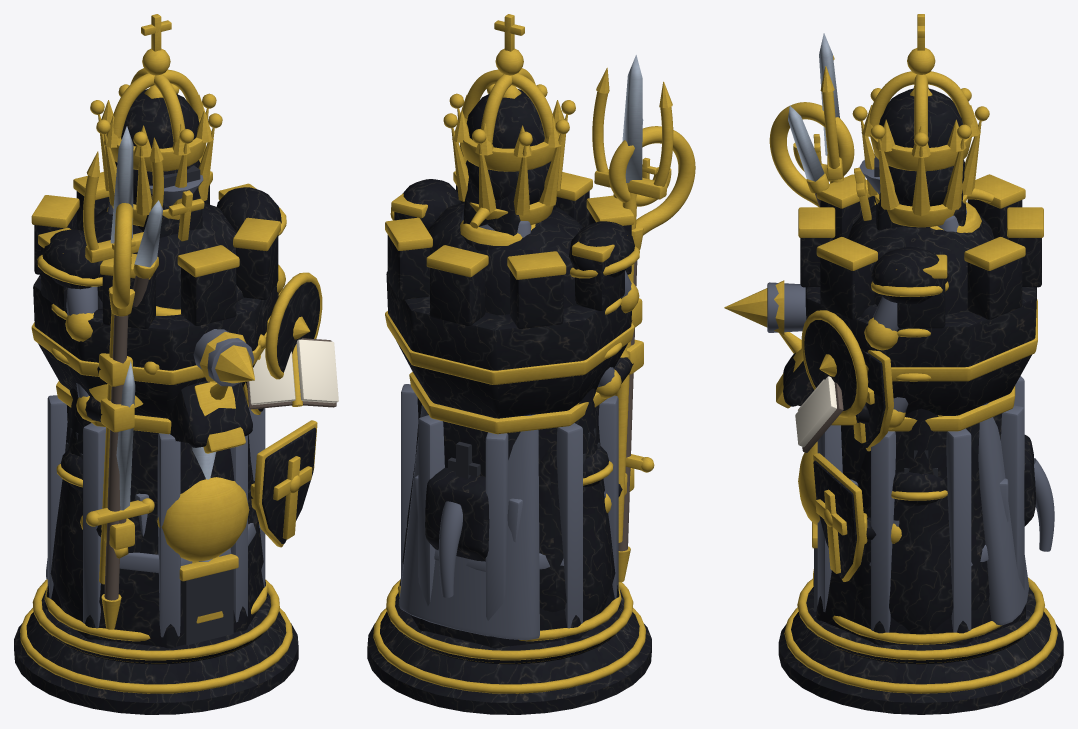
File: wizard_black.glb
3 renders of one model, left to right at view 1: azimuth 30°, elevation 25°; view 2: azimuth 150°, elevation 25°; view 3: azimuth 270°, elevation 25°, orthographic.
Visible parts, largest first — view 1: Mesh_WeaponArm_r, Mesh_Body_r, Plinth_k, Mesh_Body_n, Mesh_Body_k, Mesh_Head_k, Mesh_WeaponArm_b, Mesh_WeaponArm_q, Mesh_ShieldArm_p, Mesh_WeaponArm_k, Mesh_ShieldArm_b, Mesh_Head_q (+6 smaller); view 2: Mesh_WeaponArm_r, Mesh_Body_k, Mesh_Body_r, Plinth_k, Mesh_Head_k, Mesh_WeaponArm_q, Mesh_WeaponArm_b, Mesh_Body_n, Mesh_Head_q, Mesh_WeaponArm_k, Mesh_ShieldArm_k, Mesh_WeaponArm_p (+3 smaller); view 3: Mesh_WeaponArm_r, Mesh_Body_k, Plinth_k, Mesh_Body_r, Mesh_Head_k, Mesh_ShieldArm_p, Mesh_Head_q, Mesh_Body_n, Mesh_ShieldArm_q, Mesh_ShieldArm_k, Mesh_ShieldArm_b, Mesh_WeaponArm_b (+6 smaller).
Boxes of the visible parts, box(x1,y1,x2,y2) form: Mesh_WeaponArm_r: box(31, 171, 280, 418); Mesh_Body_r: box(45, 381, 267, 648); Plinth_k: box(14, 579, 298, 714); Mesh_Body_n: box(135, 381, 252, 561); Mesh_Body_k: box(46, 203, 263, 615); Mesh_Head_k: box(101, 14, 213, 207); Mesh_WeaponArm_b: box(51, 203, 135, 629); Mesh_WeaponArm_q: box(51, 126, 163, 584); Mesh_ShieldArm_p: box(250, 420, 317, 547); Mesh_WeaponArm_k: box(37, 229, 265, 561); Mesh_ShieldArm_b: box(247, 338, 338, 409); Mesh_Head_q: box(90, 83, 222, 226); Mesh_WeaponArm_r: box(385, 171, 634, 418); Mesh_Body_k: box(399, 202, 615, 640); Mesh_Body_r: box(398, 372, 621, 648); Plinth_k: box(367, 579, 651, 714); Mesh_Head_k: box(452, 14, 564, 204); Mesh_WeaponArm_q: box(574, 55, 673, 542); Mesh_WeaponArm_b: box(596, 126, 695, 582); Mesh_Body_n: box(414, 467, 522, 597); Mesh_Head_q: box(443, 84, 575, 237); Mesh_WeaponArm_k: box(569, 221, 639, 313); Mesh_ShieldArm_k: box(390, 179, 461, 230); Mesh_WeaponArm_p: box(583, 445, 654, 513); Mesh_WeaponArm_r: box(724, 174, 1043, 415); Mesh_Body_k: box(847, 204, 1028, 634); Plinth_k: box(778, 577, 1063, 714); Mesh_Body_r: box(812, 376, 1025, 645); Mesh_Head_k: box(859, 14, 980, 206); Mesh_ShieldArm_p: box(813, 453, 947, 581); Mesh_Head_q: box(852, 85, 989, 232); Mesh_Body_n: box(776, 332, 1054, 551); Mesh_ShieldArm_q: box(801, 310, 946, 417); Mesh_ShieldArm_k: box(860, 247, 948, 350); Mesh_ShieldArm_b: box(795, 373, 931, 452); Mesh_WeaponArm_b: box(769, 102, 854, 207).
Size of the model in its own units: 0.7981 by 1.88 by 0.905.
Materials: 7 (3 with a texture image).
